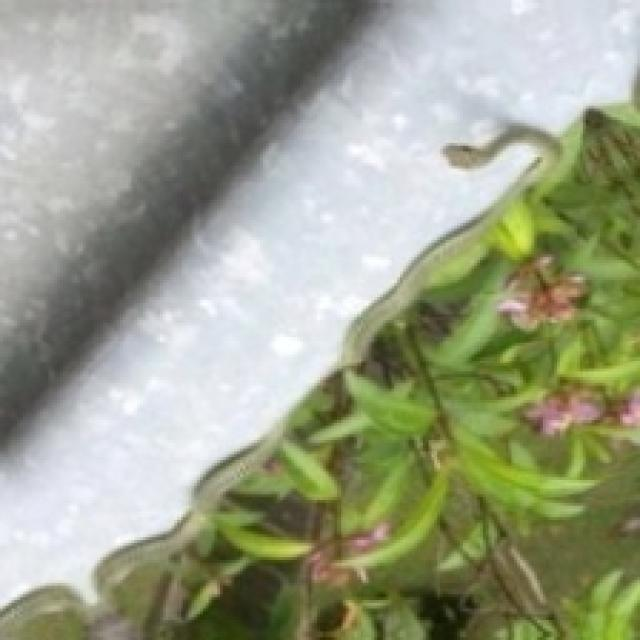paradise tree snake: (0, 0, 637, 600)
